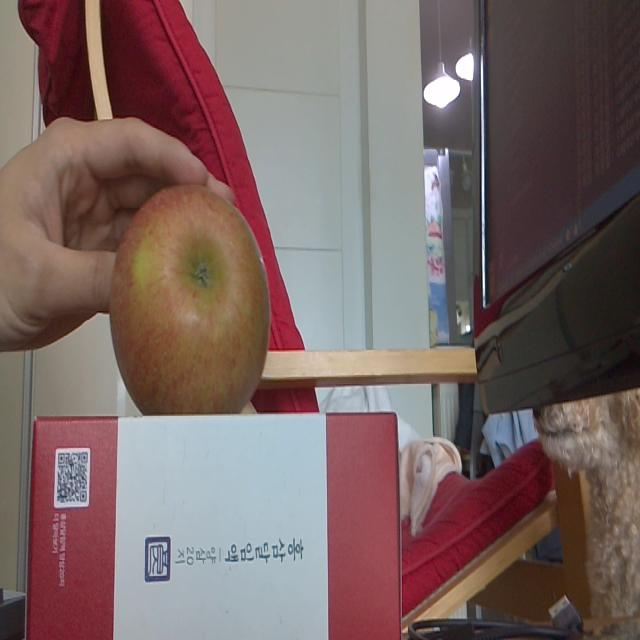apple: (113, 175, 271, 413)
